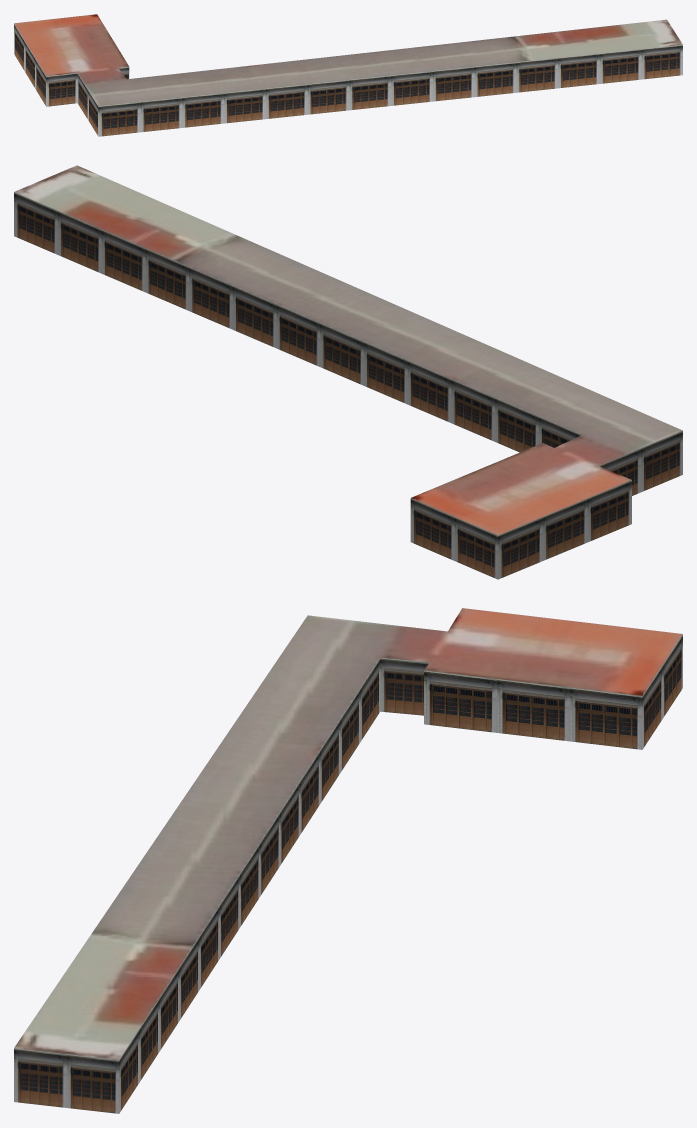
File: T_1T6FW4NUMC.dae
3 views of the same model, one above another, from view 1: azimuth 30°, elevation 25°; view 2: azimuth 150°, elevation 25°; view 3: azimuth 270°, elevation 25° (orthographic). The views are drawn at different scales.
Parts seen in each view (by area): view 1: SketchUp (×5); view 2: SketchUp (×5); view 3: SketchUp (×6).
Part boxes in pixels (x1,y1,x2,y2): SketchUp (×5): (14,14,682,136); SketchUp (×5): (14,165,682,579); SketchUp (×6): (14,608,682,1113).
Size of the model in its own units: 83.22 by 52.07 by 4.64.
Materials: 2 (2 with a texture image).
